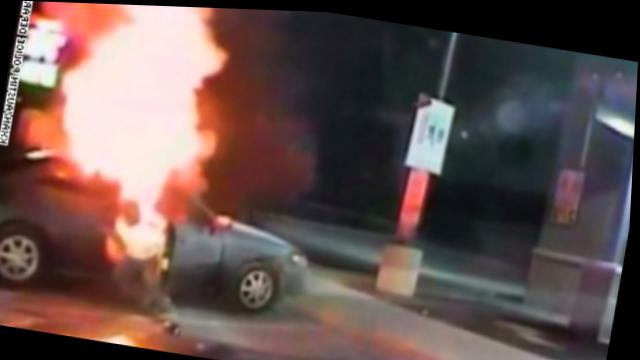fire: (26, 1, 242, 293)
